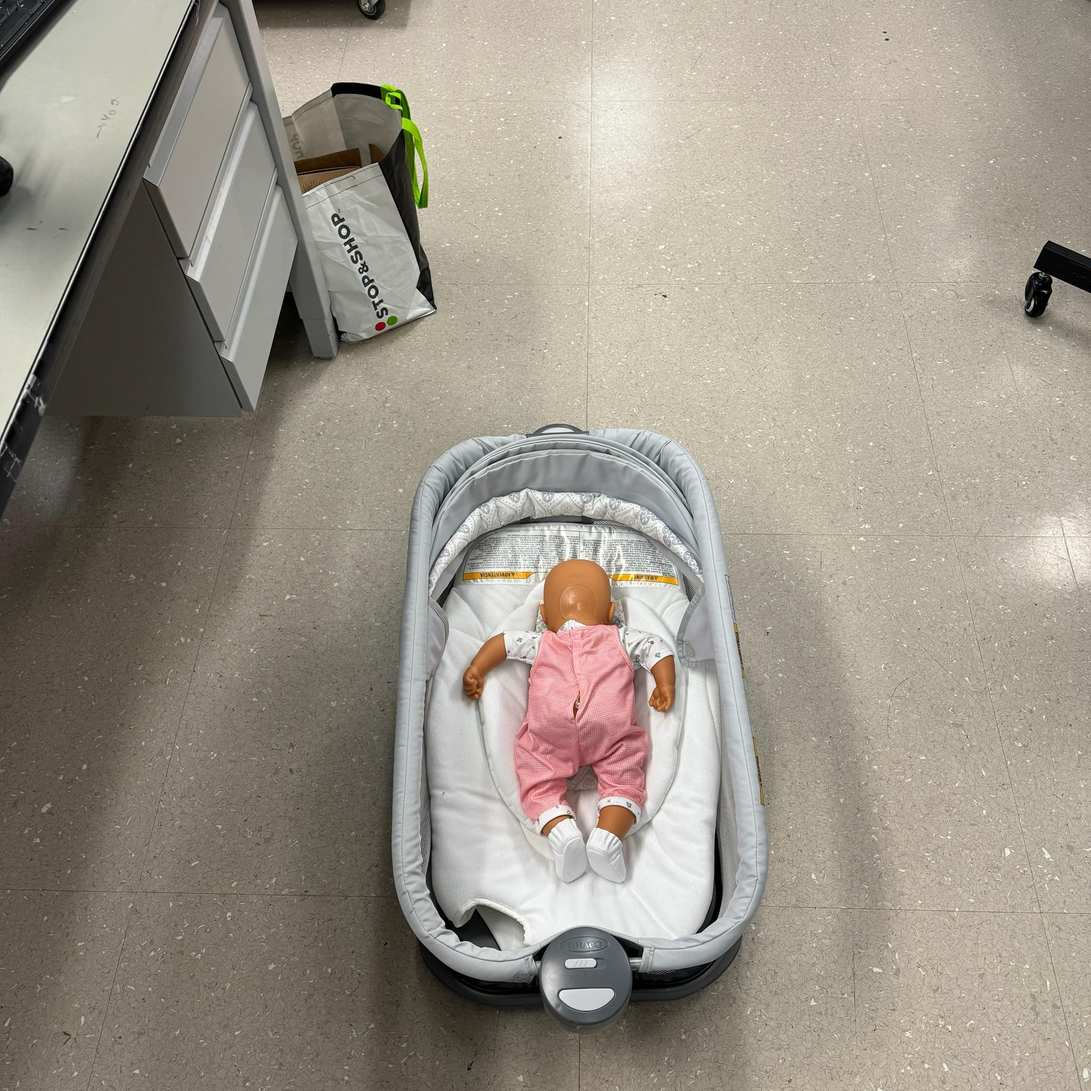baby: (452, 546, 696, 900)
